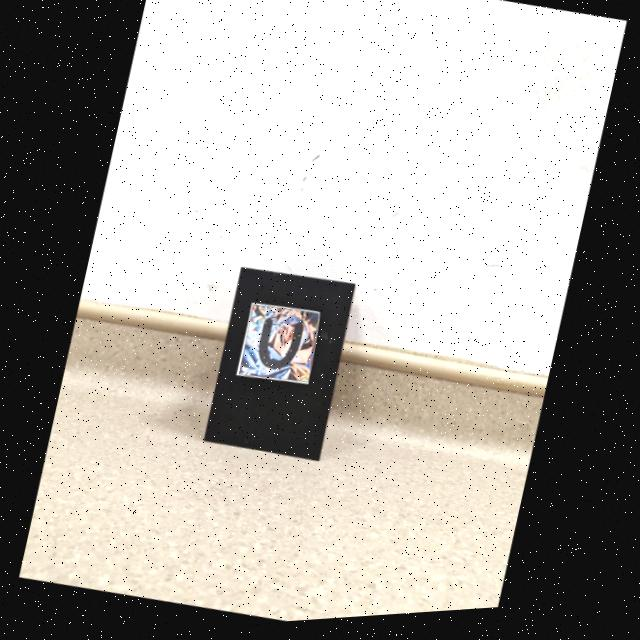U: (257, 322, 302, 372)
